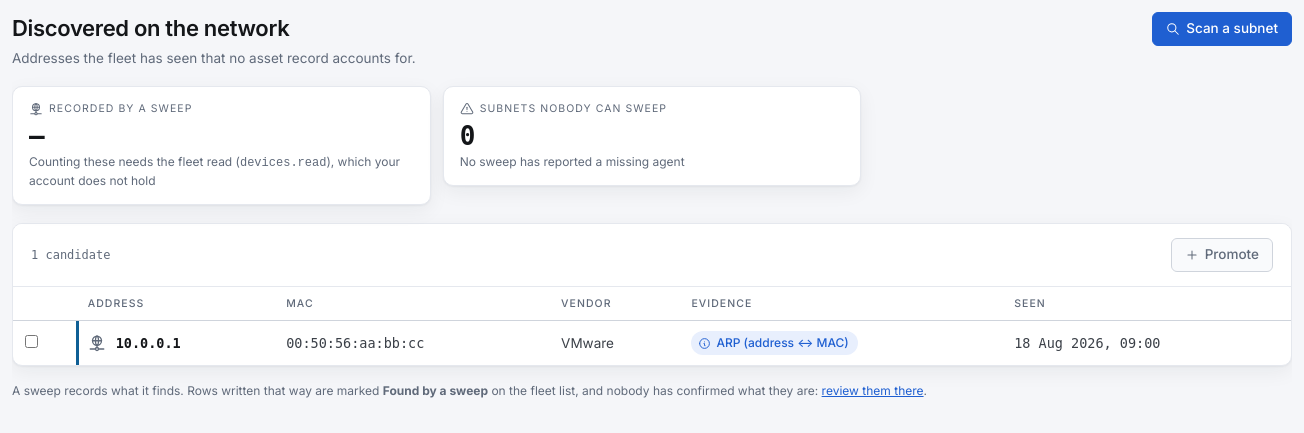
Test case: CandidatesPage › still sends a selected row a re-read dropped, and the server answers it
Click the checkbox named "10.0.0.1" at coordinates (32, 342), box [25,335,38,348]
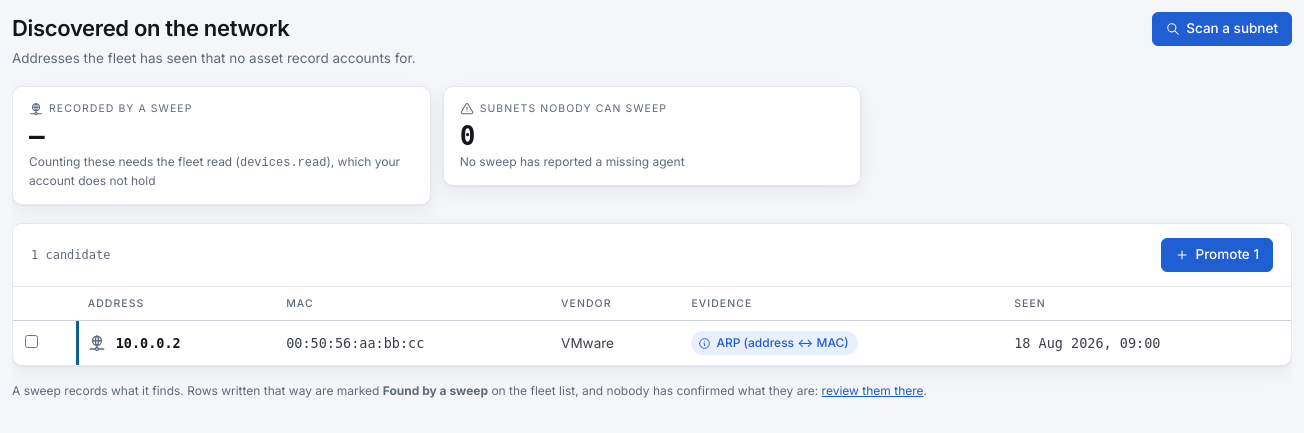
Expected: the text "10.0.0.2" is shown, [116,333,181,354]
Expected: the text "10.0.0.1" is gone
Click the button "Promote 1" at coordinates (1217, 255), box [1162,238,1273,272]
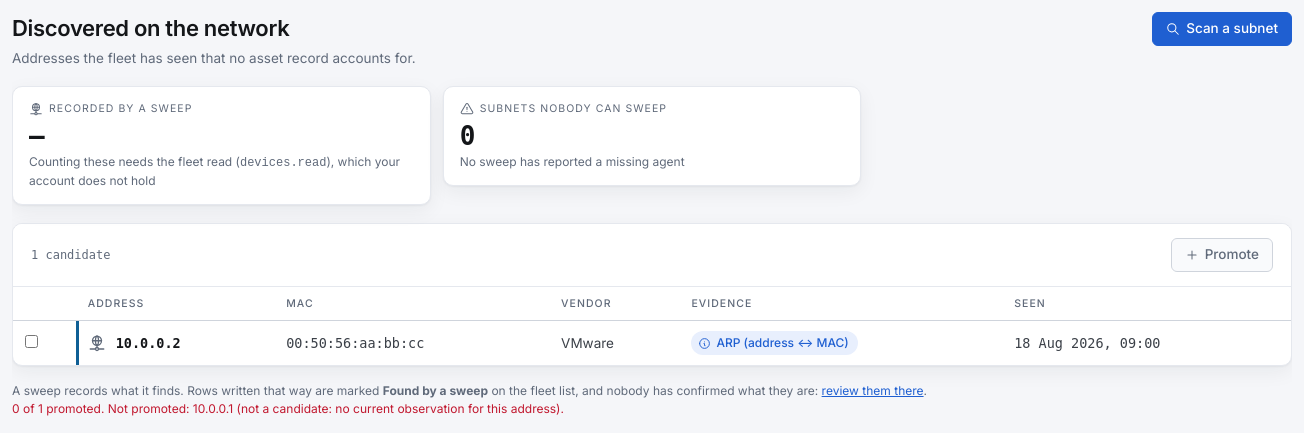
Expected: the text "Not promoted: 10.0.0.1 (not a candidate" is shown, [12,401,564,416]
